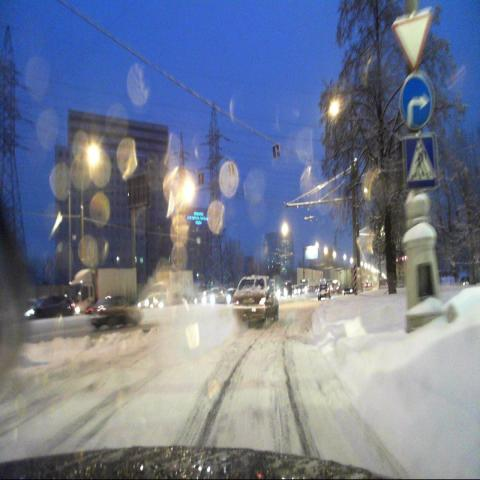4_1_2: (400, 78, 434, 129)
